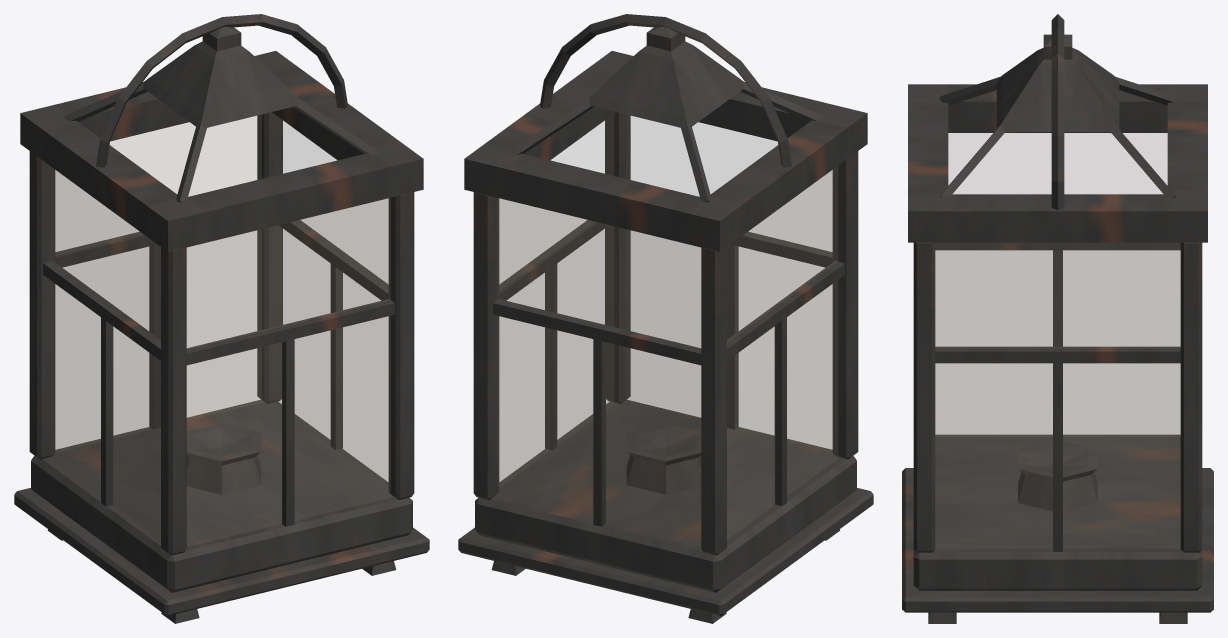
File: lantern_standing.glb
The picture shows the model from 3 angles, left to right: view 1: azimuth 30°, elevation 25°; view 2: azimuth 150°, elevation 25°; view 3: azimuth 270°, elevation 25°; orthographic projection.
Visible parts, largest first — view 1: lantern_standing; view 2: lantern_standing; view 3: lantern_standing.
Boxes of the visible parts, x1,y1,x2,y2 form: lantern_standing: (14,14,429,623); lantern_standing: (458,14,873,623); lantern_standing: (902,14,1213,623).
Size of what is drawn, in the model's own units: 0.324 by 0.6216 by 0.324.
Materials: 2 (1 with a texture image).
